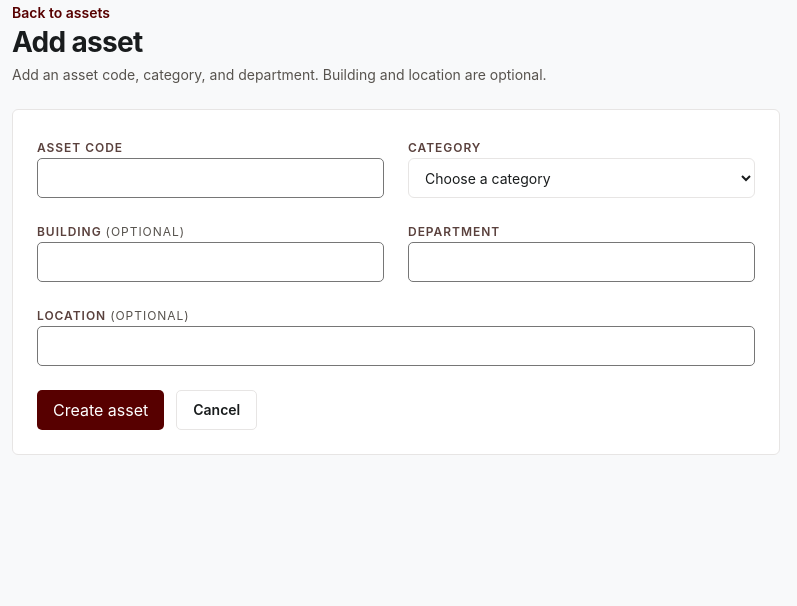
Test case: AssetCreate feature component › strips DTO property prefixes when mapping backend 400 error keys to form fields
Type "FE-001" into the field labelled "Asset code". click: (210, 178)
box: x1=37 y1=158 x2=384 y2=198
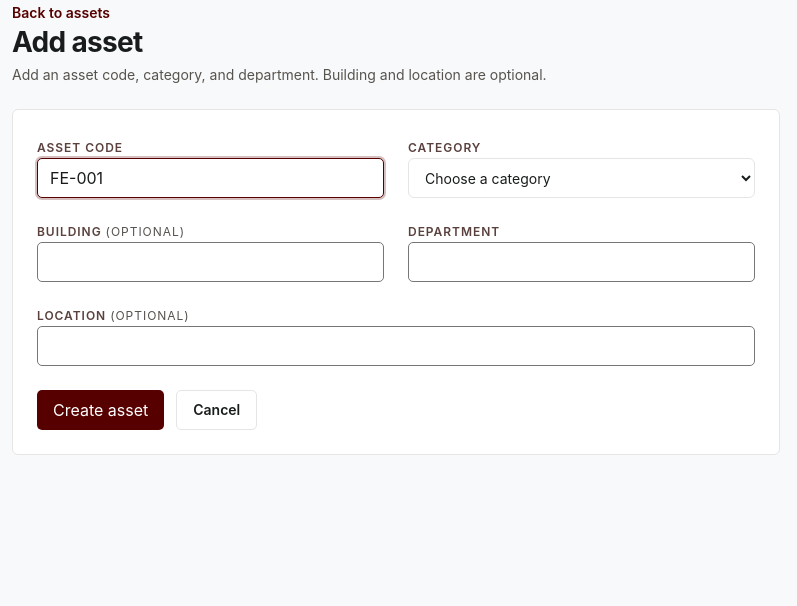
Select "Fire extinguishers" in the dropdown labelled "Category". click: (582, 178)
box: x1=408 y1=158 x2=755 y2=198
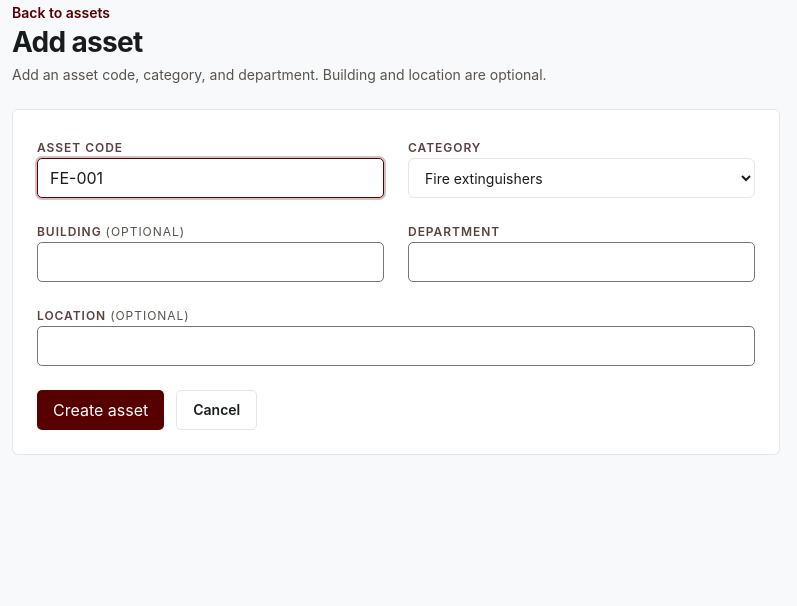
Type "GSD" into the field labelled "Department". click: (582, 262)
box: x1=408 y1=242 x2=755 y2=282
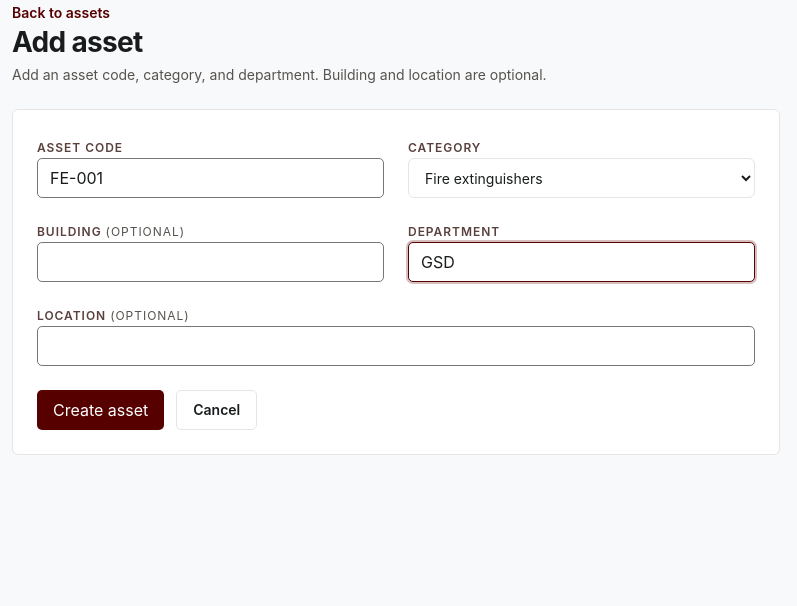
Click the button "Create asset". click: (101, 410)
box: x1=37 y1=390 x2=164 y2=430
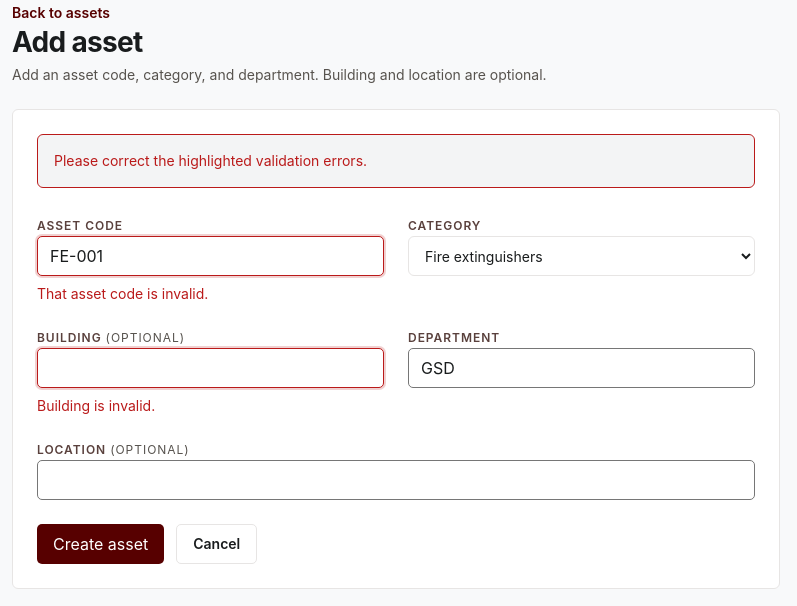
Result: the text "Please correct the highlighted validation errors." is shown at x1=37 y1=134 x2=755 y2=188
Result: the text "That asset code is invalid." is shown at x1=37 y1=285 x2=208 y2=302
Result: the text "Building is invalid." is shown at x1=37 y1=397 x2=155 y2=414
